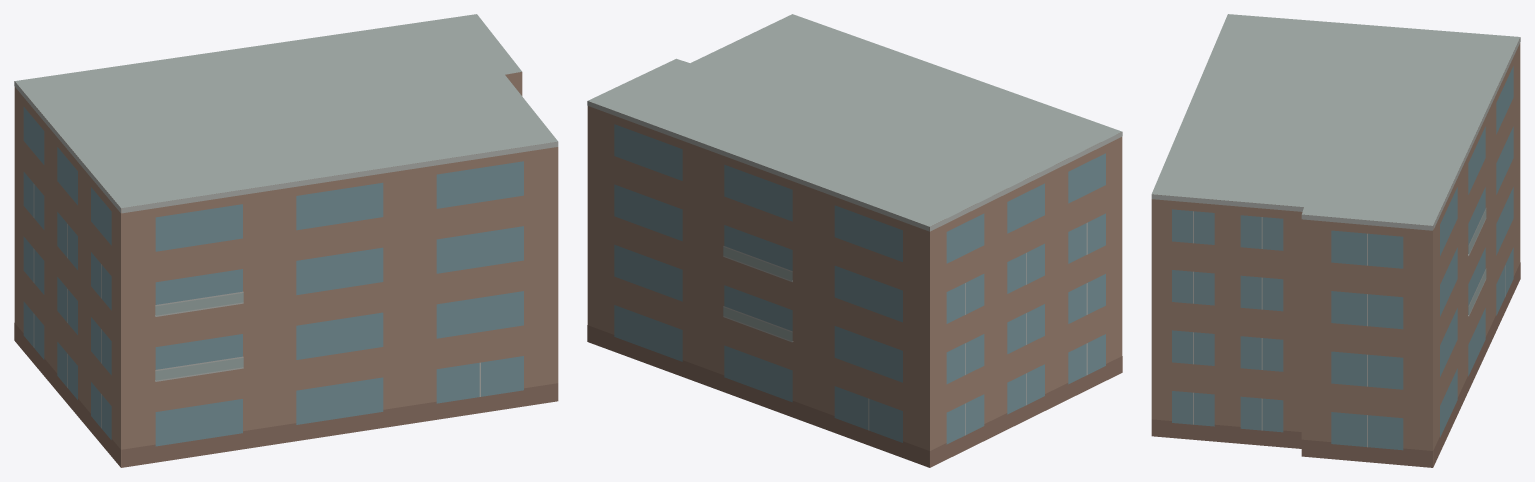
File: survey-upis-32679285.glb
3 views of the same model, side by side, from view 1: azimuth 30°, elevation 25°; view 2: azimuth 150°, elevation 25°; view 3: azimuth 270°, elevation 25° (orthographic). The views are drawn at different scales.
Parts seen in each view (by area): view 1: survey-upis-32679285.tmp; view 2: survey-upis-32679285.tmp; view 3: survey-upis-32679285.tmp.
Boxes of the visible parts, x1,y1,x2,y2 form: survey-upis-32679285.tmp: [14, 14, 558, 467]; survey-upis-32679285.tmp: [587, 14, 1122, 467]; survey-upis-32679285.tmp: [1151, 14, 1520, 467].
Size of the model in its own units: 22.74 by 12.1 by 16.73.
